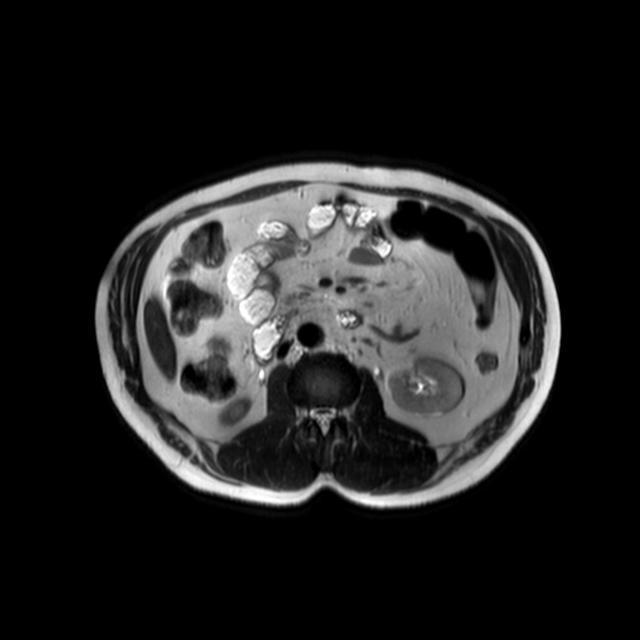sag: (219, 399, 252, 426)
sol: (386, 354, 466, 415)
